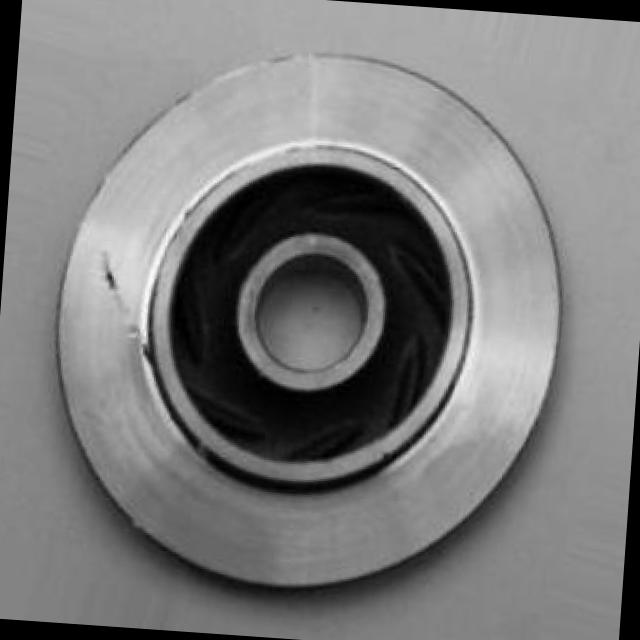Defect: (90, 252, 132, 312)
